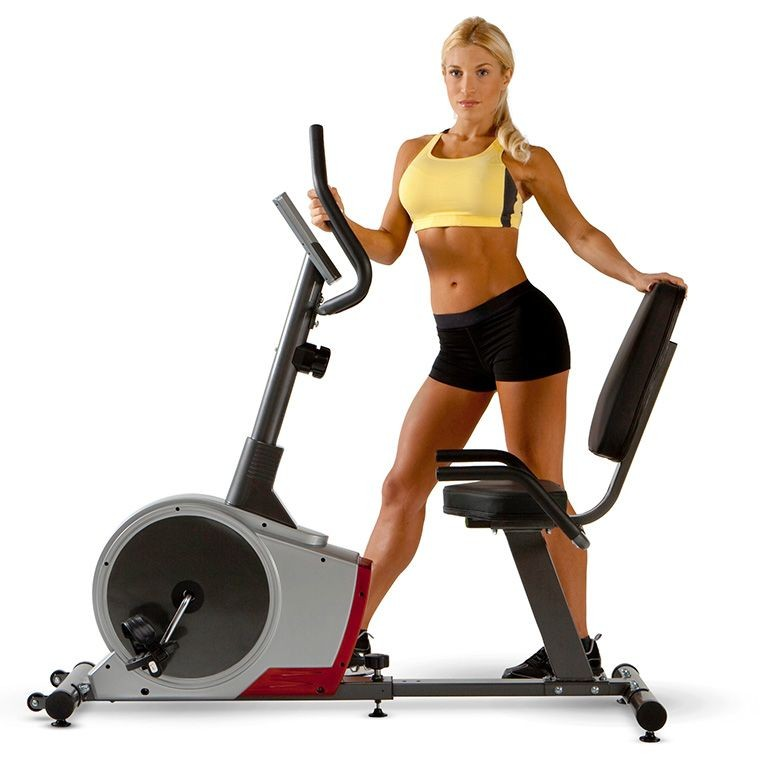gym_bike: (32, 134, 694, 746)
